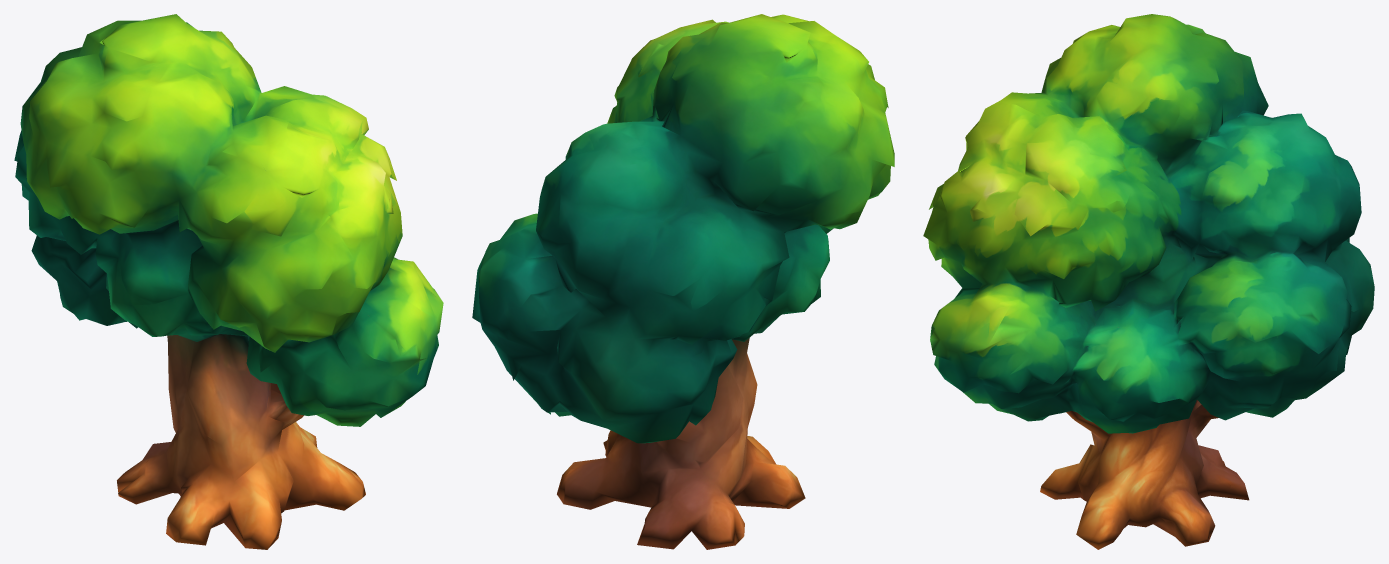
Rendered from model_raw.glb.
3 views of the same model, side by side, from view 1: azimuth 30°, elevation 25°; view 2: azimuth 150°, elevation 25°; view 3: azimuth 270°, elevation 25° (orthographic). The views are drawn at different scales.
Parts seen in each view (by area): view 1: tripo_node_1c91c5ca-d2d9-48c8-bbfe-55d0294af522; view 2: tripo_node_1c91c5ca-d2d9-48c8-bbfe-55d0294af522; view 3: tripo_node_1c91c5ca-d2d9-48c8-bbfe-55d0294af522.
Part boxes in pixels (x1=…): tripo_node_1c91c5ca-d2d9-48c8-bbfe-55d0294af522: x1=14, y1=14, x2=443, y2=549; tripo_node_1c91c5ca-d2d9-48c8-bbfe-55d0294af522: x1=472, y1=14, x2=894, y2=549; tripo_node_1c91c5ca-d2d9-48c8-bbfe-55d0294af522: x1=923, y1=14, x2=1374, y2=549.
Bounding box in the file's own units: 0.7072 × 1 × 0.9175.
1 material, 1 textured.
